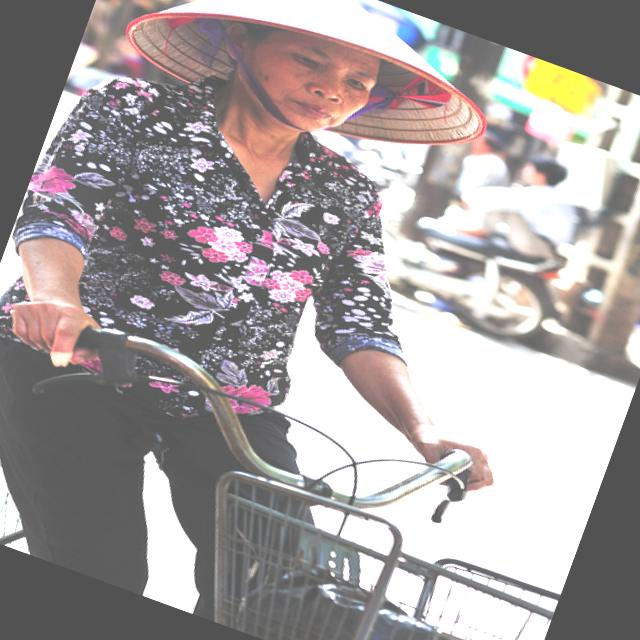Vehicle: (360, 201, 576, 355)
